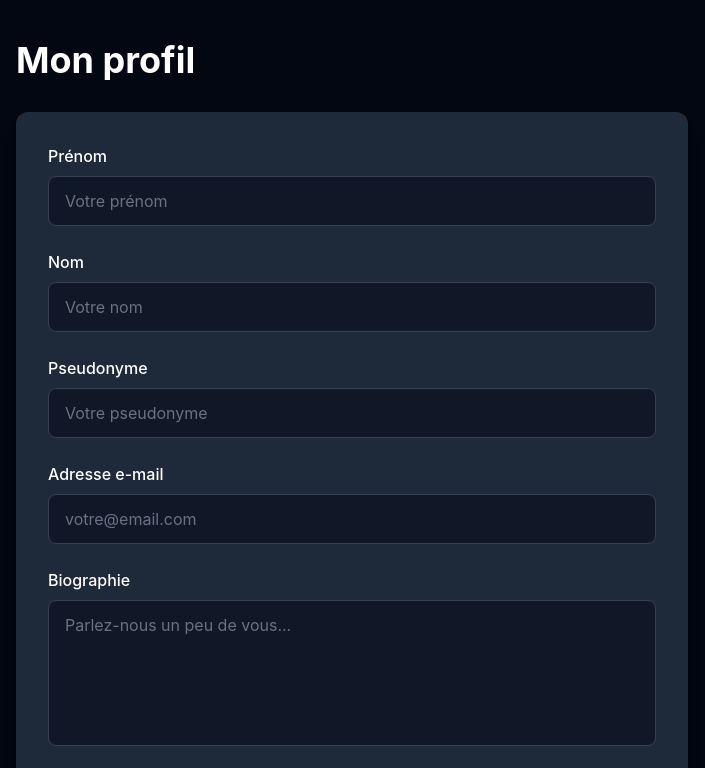
Test: Profile › affiche une erreur si l'adresse e-mail est invalide
The width and height of the screenshot is (705, 768).
Type "Alice" into the field labelled "Prénom" at (352, 201), box [48,176,656,226]
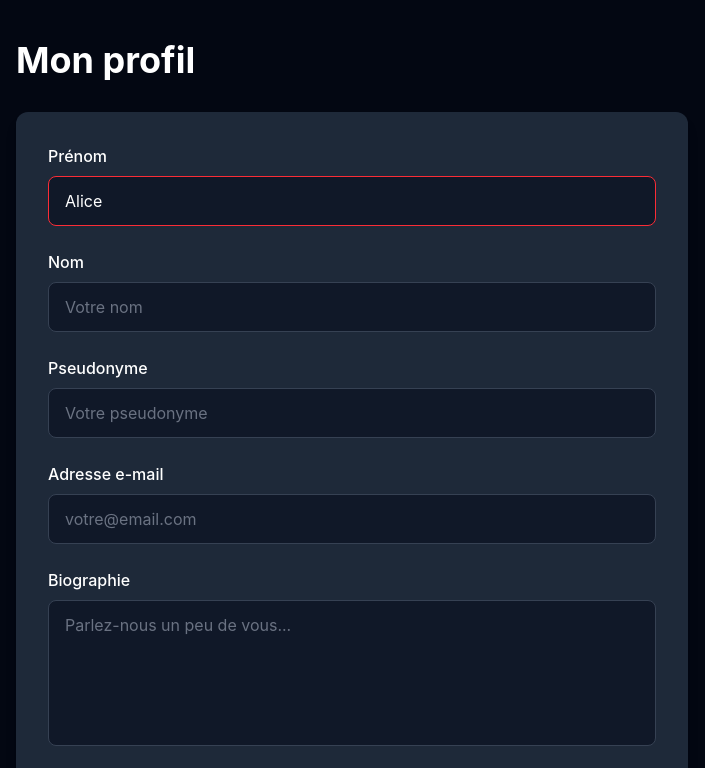
Type "Martin" into the field labelled "Nom" at (352, 307), box [48,282,656,332]
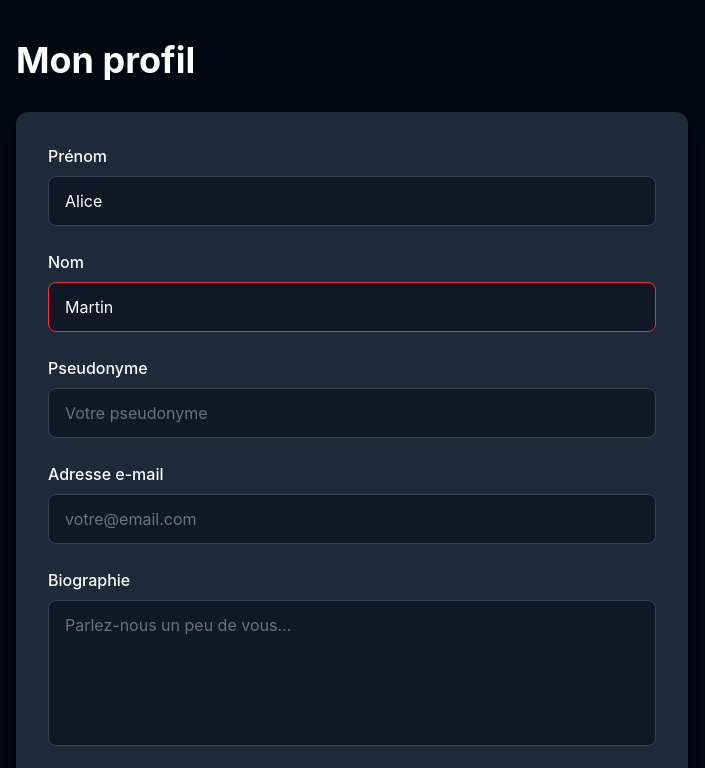
Type "alice67" into the field labelled "Pseudonyme" at (352, 413), box [48,388,656,438]
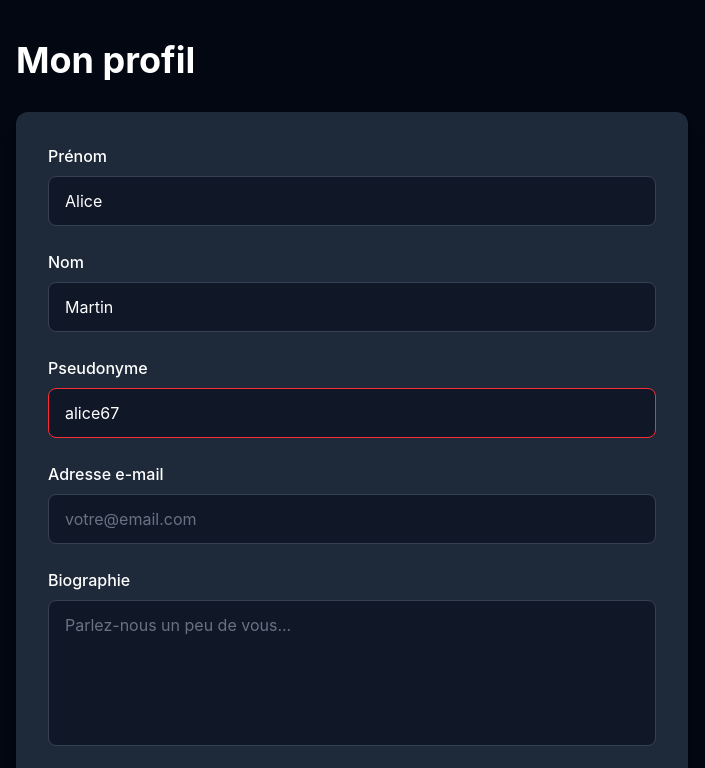
Type "alicemail.com" into the field labelled "Adresse e-mail" at (352, 519), box [48,494,656,544]
(page scrolled)
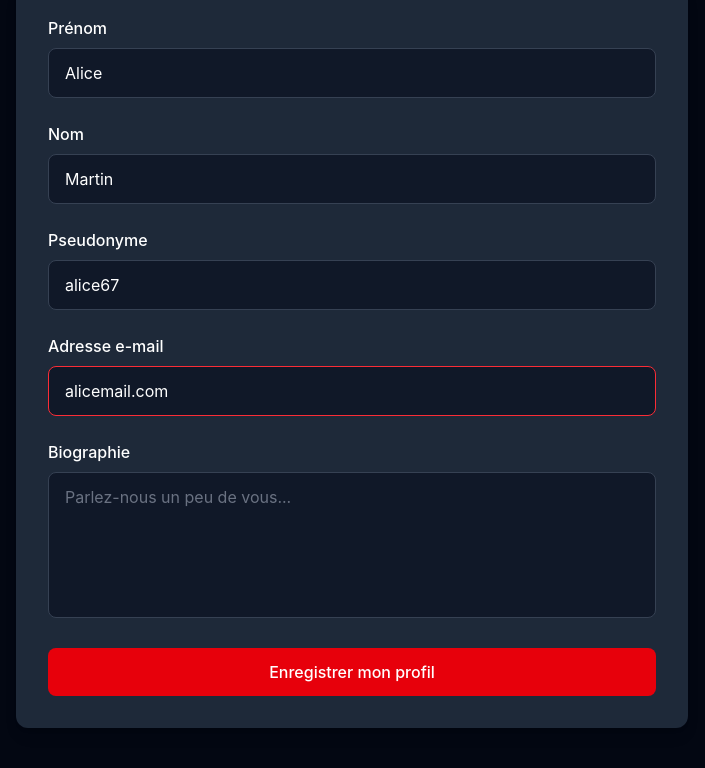
Click the button "Enregistrer mon profil" at (352, 672), box [48,648,656,696]
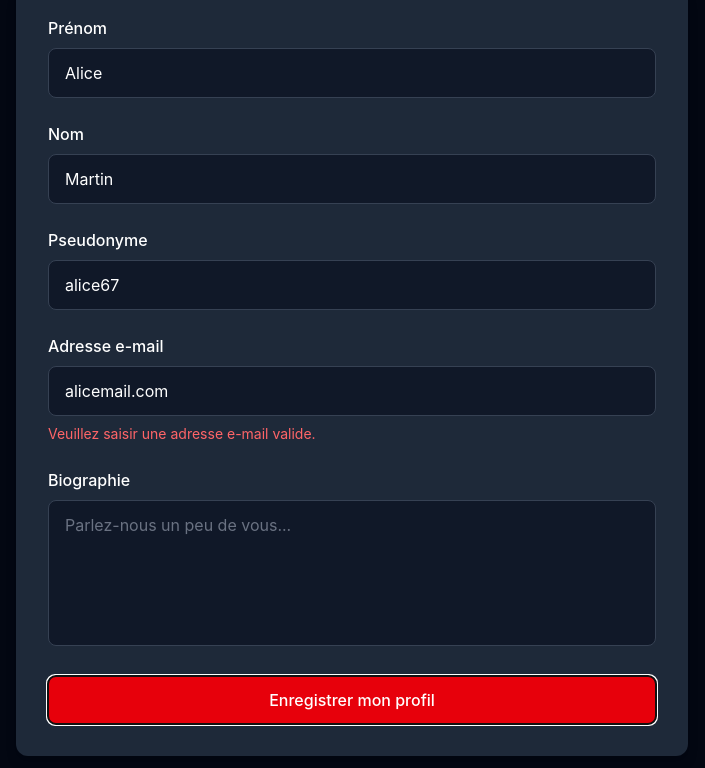
Check: the text "Veuillez saisir une adresse e-mail valide." is shown, box [48,425,316,442]
